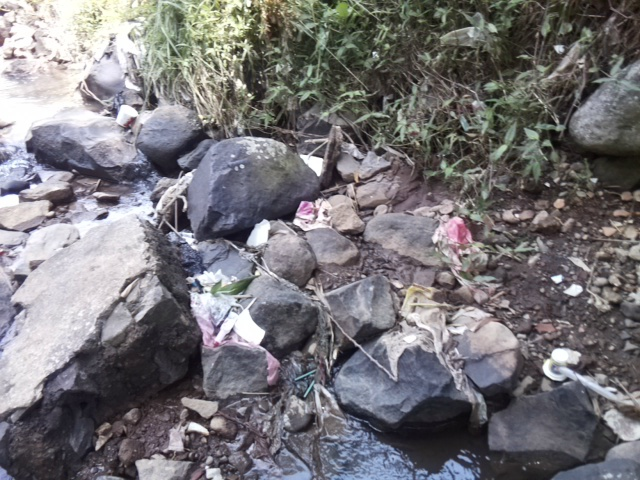Sampah_Plastik: (186, 270, 285, 379), (432, 218, 474, 263), (291, 197, 332, 228)
Sampah_Styrofoam: (539, 345, 573, 385)
